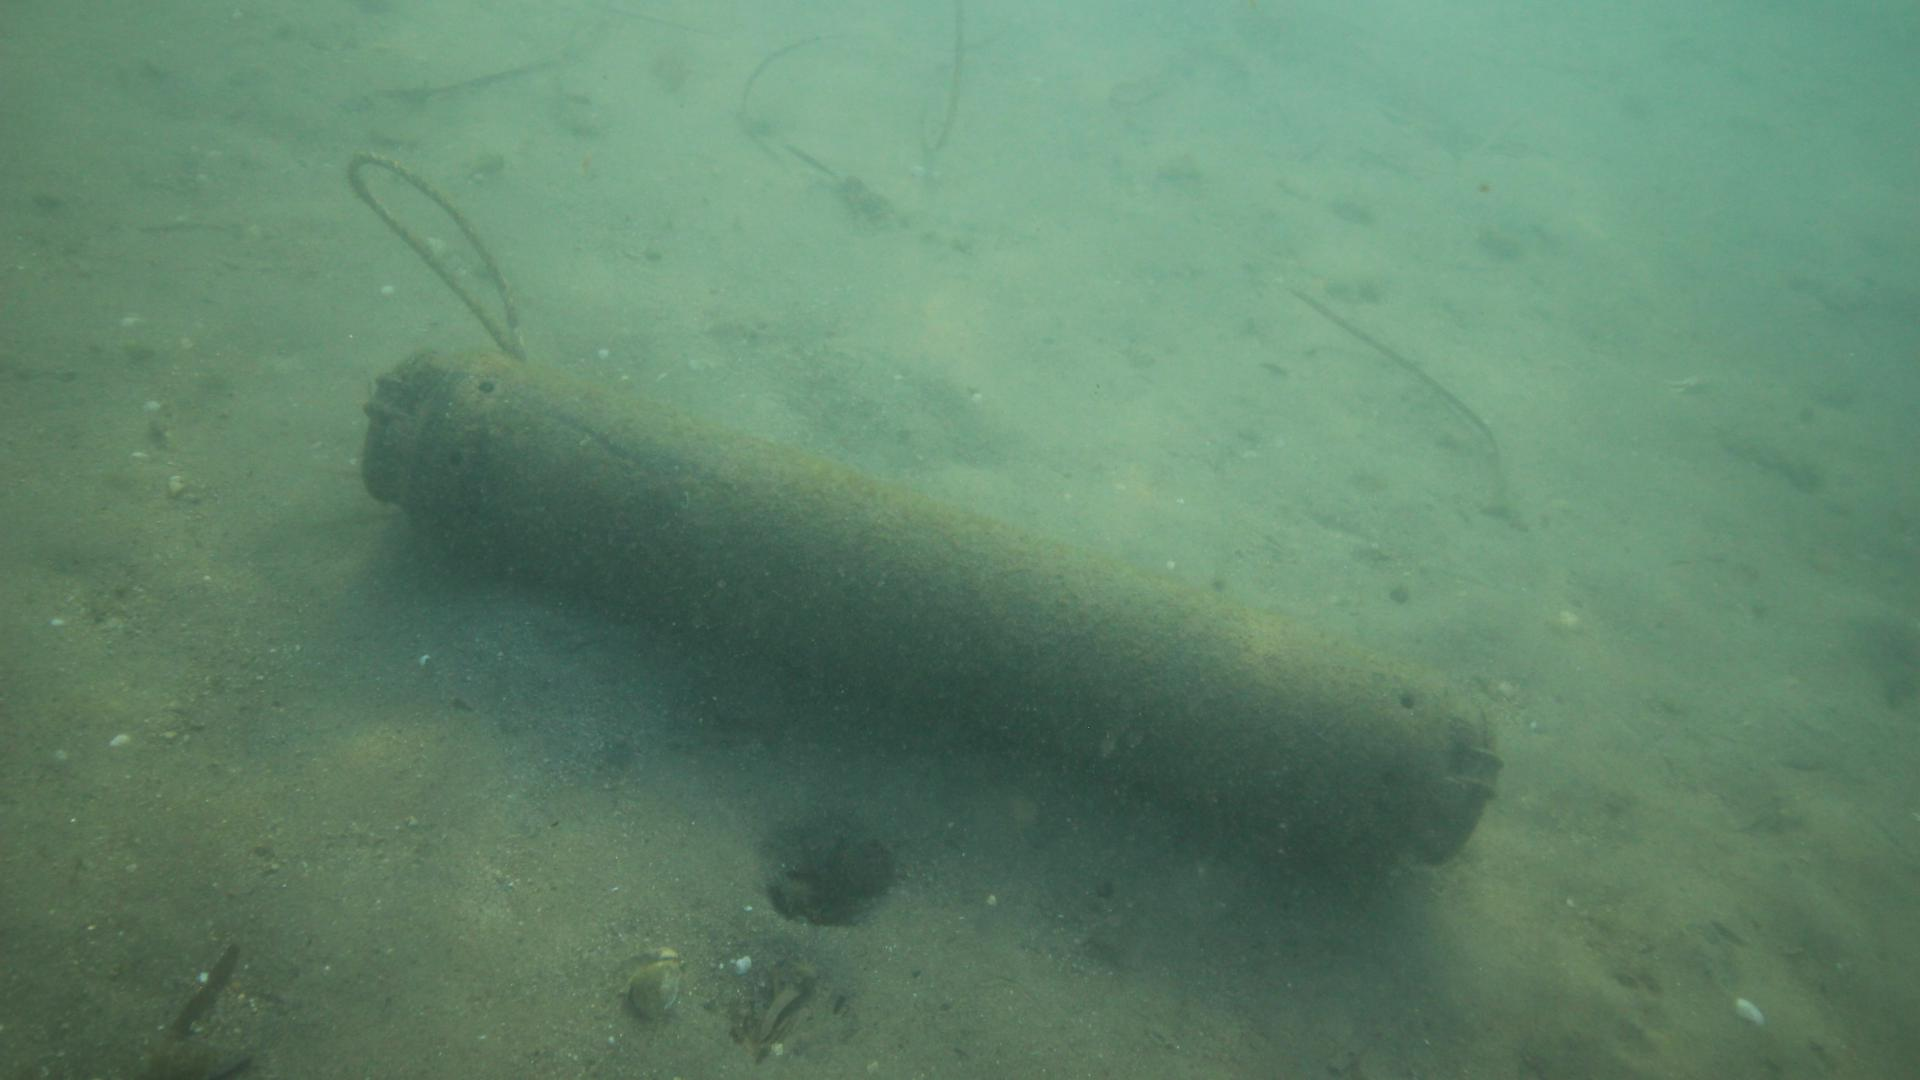eel fish trap: (359, 345, 1505, 872)
rope: (343, 149, 529, 363)
